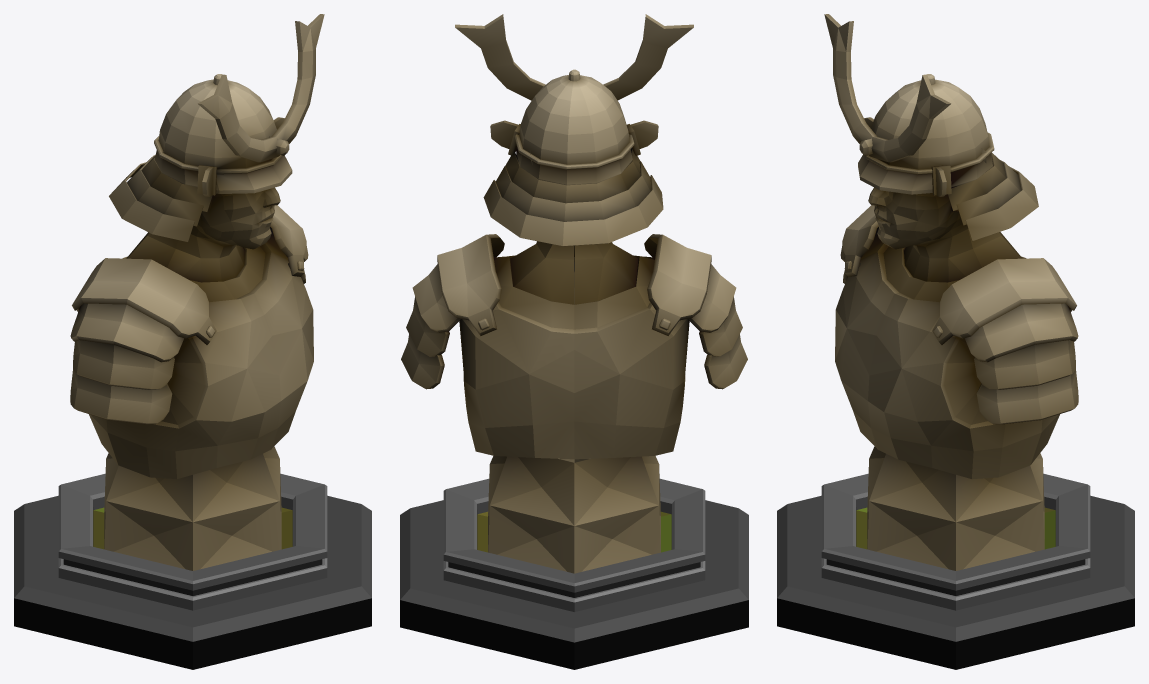
The model's file is armyTile_Feudal.fbx.
The picture shows the model from 3 angles, left to right: view 1: azimuth 30°, elevation 25°; view 2: azimuth 150°, elevation 25°; view 3: azimuth 270°, elevation 25°; orthographic projection. The views are drawn at different scales.
Visible parts, largest first — view 1: armyTile_Feudal; view 2: armyTile_Feudal; view 3: armyTile_Feudal.
Boxes of the visible parts, x1,y1,x2,y2 form: armyTile_Feudal: [14, 14, 371, 669]; armyTile_Feudal: [400, 14, 748, 669]; armyTile_Feudal: [777, 14, 1134, 669].
Size of the model in its own units: 2 by 2.95 by 1.73.
